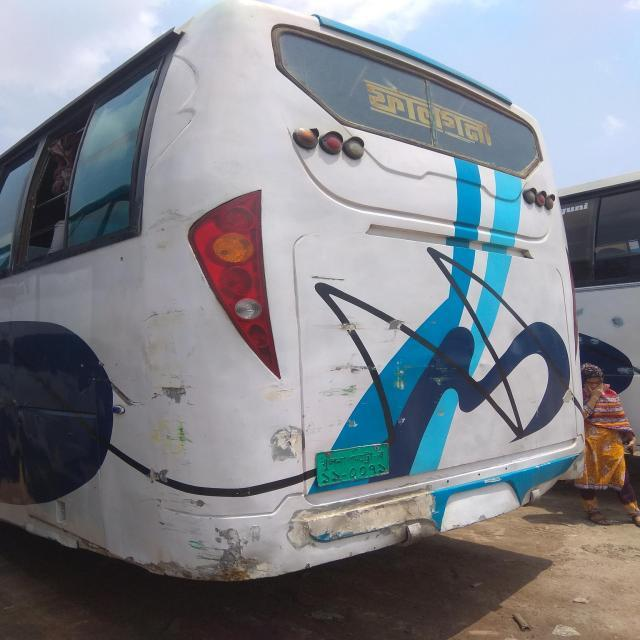numberplate: (313, 441, 390, 489)
